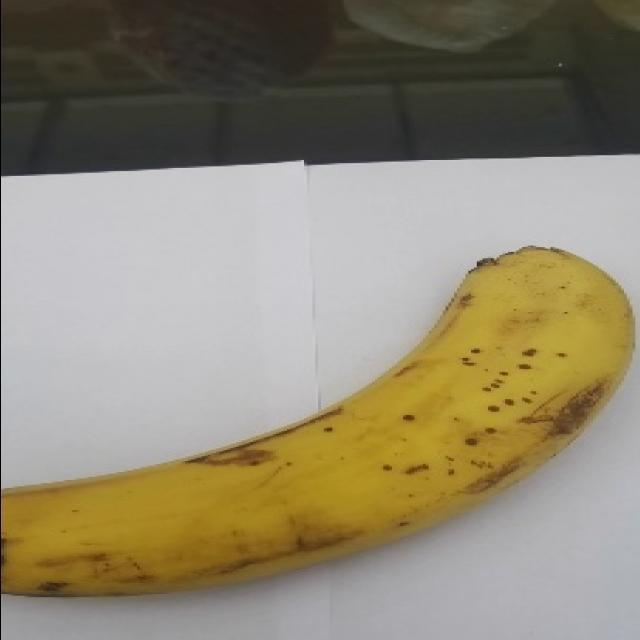Banana: (1, 243, 635, 598)
